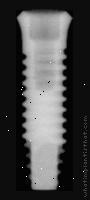BioHorizons: (7, 8, 73, 192)
